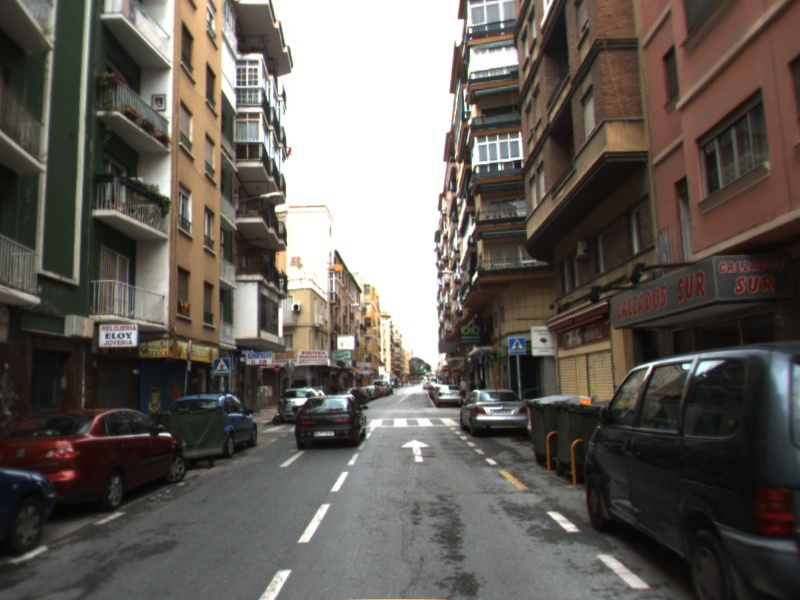STRAIGHT: (399, 437, 432, 464)
